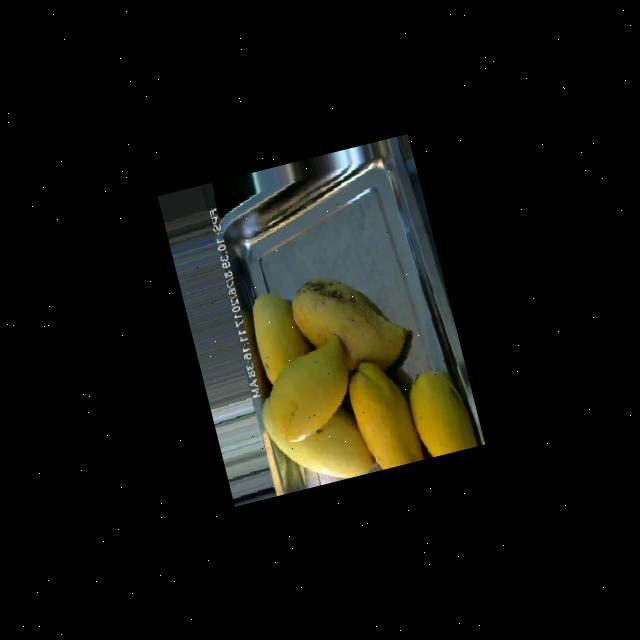Mango: (232, 250, 477, 493), (283, 260, 414, 388), (255, 375, 374, 494), (254, 334, 360, 445), (340, 352, 422, 472), (400, 363, 477, 459), (243, 286, 314, 386)
